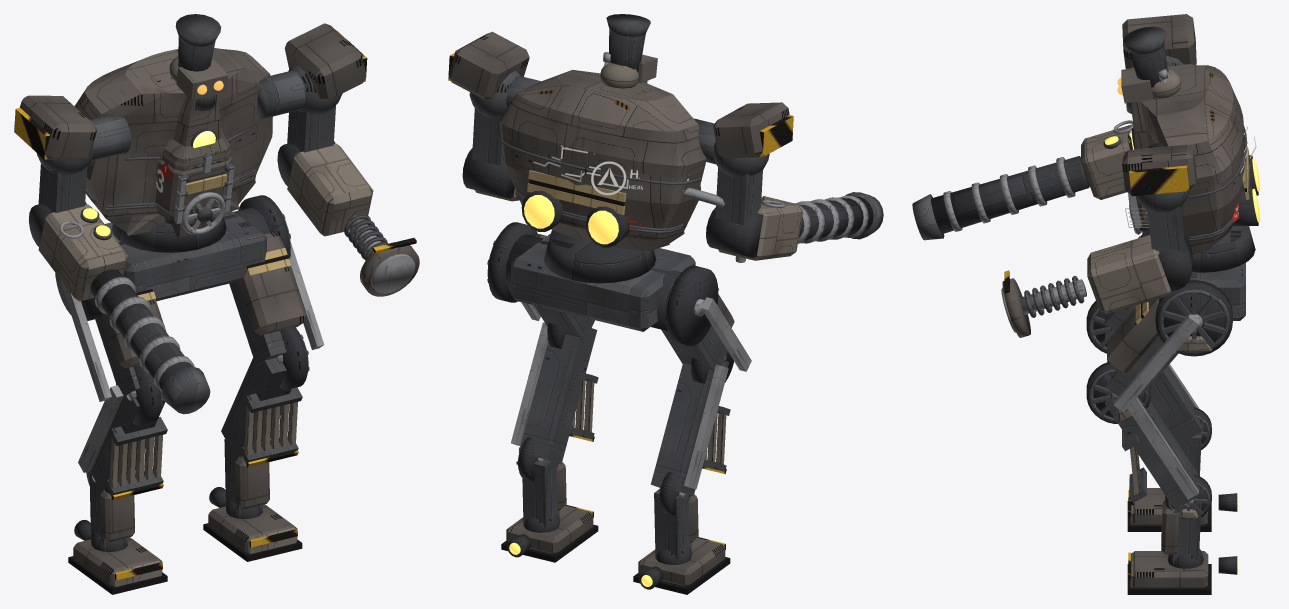
The model's file is mech_ironhorse.glb.
3 views of the same model, side by side, from view 1: azimuth 30°, elevation 25°; view 2: azimuth 150°, elevation 25°; view 3: azimuth 270°, elevation 25° (orthographic). The views are drawn at different scales.
Parts seen in each view (by area): view 1: cockpit_ironhorse_armor.001, pelvis_ironhorse_frame.001, forearm_L_ironhorse_armor2.001, forearm_R_ironhorse_armor2.001, shoulder_L_ironhorse_armor.001, shin_L_ironhorse_frame.001, thigh_L_ironhorse_armor.001, torso_ironhorse_frame.001, hand_R_ironhorse_dark.001, shoulder_R_ironhorse_armor.001, shin_R_ironhorse_frame.001, shoulder_L_ironhorse_frame.001 (+37 smaller); view 2: cockpit_ironhorse_armor.001, pelvis_ironhorse_frame.001, pelvis_ironhorse_dark.001, shin_L_ironhorse_frame.001, shin_R_ironhorse_frame.001, torso_twist_ironhorse_dark.001, shoulder_L_ironhorse_armor.001, shoulder_R_ironhorse_frame.001, shoulder_R_ironhorse_armor.001, forearm_R_ironhorse_armor2.001, shoulder_L_ironhorse_frame.001, cockpit_ironhorse_dark.001 (+29 smaller); view 3: cockpit_ironhorse_armor.001, forearm_L_ironhorse_armor2.001, hand_R_ironhorse_dark.001, shin_L_ironhorse_frame.001, pelvis_ironhorse_frame.001, shin_R_ironhorse_frame.001, forearm_R_ironhorse_armor2.001, foot_L_ironhorse_armor.001, thigh_L_ironhorse_armor.001, shoulder_L_ironhorse_frame.001, shoulder_R_ironhorse_armor.001, pelvis_ironhorse_dark.001 (+24 smaller).
Boxes of the visible parts, bbox=[...] form: cockpit_ironhorse_armor.001: bbox=[74, 48, 272, 237]; pelvis_ironhorse_frame.001: bbox=[105, 206, 290, 301]; forearm_L_ironhorse_armor2.001: bbox=[287, 143, 373, 236]; forearm_R_ironhorse_armor2.001: bbox=[38, 204, 127, 301]; shoulder_L_ironhorse_armor.001: bbox=[284, 23, 366, 100]; shin_L_ironhorse_frame.001: bbox=[221, 330, 309, 463]; thigh_L_ironhorse_armor.001: bbox=[237, 232, 306, 335]; torso_ironhorse_frame.001: bbox=[90, 70, 305, 160]; hand_R_ironhorse_dark.001: bbox=[90, 269, 192, 389]; shoulder_R_ironhorse_armor.001: bbox=[14, 95, 97, 160]; shin_R_ironhorse_frame.001: bbox=[90, 391, 167, 496]; shoulder_L_ironhorse_frame.001: bbox=[287, 65, 342, 152]; cockpit_ironhorse_armor.001: bbox=[499, 69, 706, 250]; pelvis_ironhorse_frame.001: bbox=[487, 232, 695, 331]; pelvis_ironhorse_dark.001: bbox=[488, 222, 718, 346]; shin_L_ironhorse_frame.001: bbox=[519, 324, 598, 464]; shin_R_ironhorse_frame.001: bbox=[650, 359, 730, 496]; torso_twist_ironhorse_dark.001: bbox=[543, 230, 656, 283]; shoulder_L_ironhorse_armor.001: bbox=[448, 31, 529, 100]; shoulder_R_ironhorse_frame.001: bbox=[713, 142, 769, 225]; shoulder_R_ironhorse_armor.001: bbox=[713, 102, 792, 158]; forearm_R_ironhorse_armor2.001: bbox=[718, 196, 802, 260]; shoulder_L_ironhorse_frame.001: bbox=[469, 70, 523, 165]; cockpit_ironhorse_dark.001: bbox=[521, 30, 645, 247]; cockpit_ironhorse_armor.001: bbox=[1129, 64, 1245, 254]; forearm_L_ironhorse_armor2.001: bbox=[1087, 235, 1171, 313]; hand_R_ironhorse_dark.001: bbox=[931, 156, 1089, 233]; shin_L_ironhorse_frame.001: bbox=[1088, 369, 1202, 508]; pelvis_ironhorse_frame.001: bbox=[1142, 231, 1245, 354]; shin_R_ironhorse_frame.001: bbox=[1088, 307, 1202, 444]; forearm_R_ironhorse_armor2.001: bbox=[1081, 124, 1132, 199]; foot_L_ironhorse_armor.001: bbox=[1132, 551, 1208, 588]; thigh_L_ironhorse_armor.001: bbox=[1107, 298, 1160, 373]; shoulder_L_ironhorse_frame.001: bbox=[1136, 191, 1188, 253]; shoulder_R_ironhorse_armor.001: bbox=[1122, 14, 1196, 68]; pelvis_ironhorse_dark.001: bbox=[1155, 272, 1232, 356].
Bounding box in the file's own units: 13.74 × 22.13 × 14.04.
13 materials, 8 textured.
